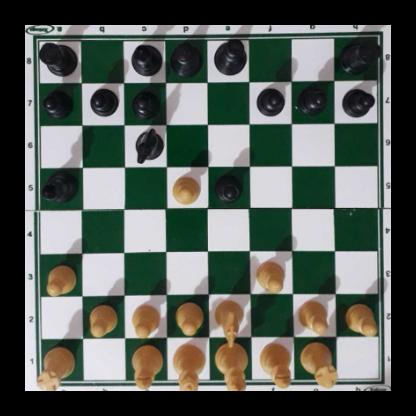black-bishop: (39, 170, 80, 203), (129, 42, 164, 74)
black-king: (212, 36, 248, 73)
black-knight: (133, 126, 162, 160)
black-pawn: (342, 86, 373, 117), (213, 171, 242, 202), (256, 86, 285, 116), (299, 84, 327, 114), (43, 88, 72, 116), (132, 87, 159, 117), (89, 87, 116, 116)
black-queen: (169, 40, 203, 75)
black-rook: (36, 38, 78, 76), (340, 34, 379, 74)
white-bishop: (258, 343, 291, 387), (131, 342, 161, 388)
white-king: (214, 339, 248, 389)
white-knight: (213, 298, 245, 349)
white-pawn: (344, 302, 377, 335), (43, 263, 76, 295), (87, 302, 117, 336), (131, 302, 160, 337), (255, 259, 285, 292), (174, 300, 203, 334), (171, 175, 200, 204)
white-queen: (171, 342, 204, 391)
white-rook: (38, 342, 73, 391), (300, 344, 336, 385)
